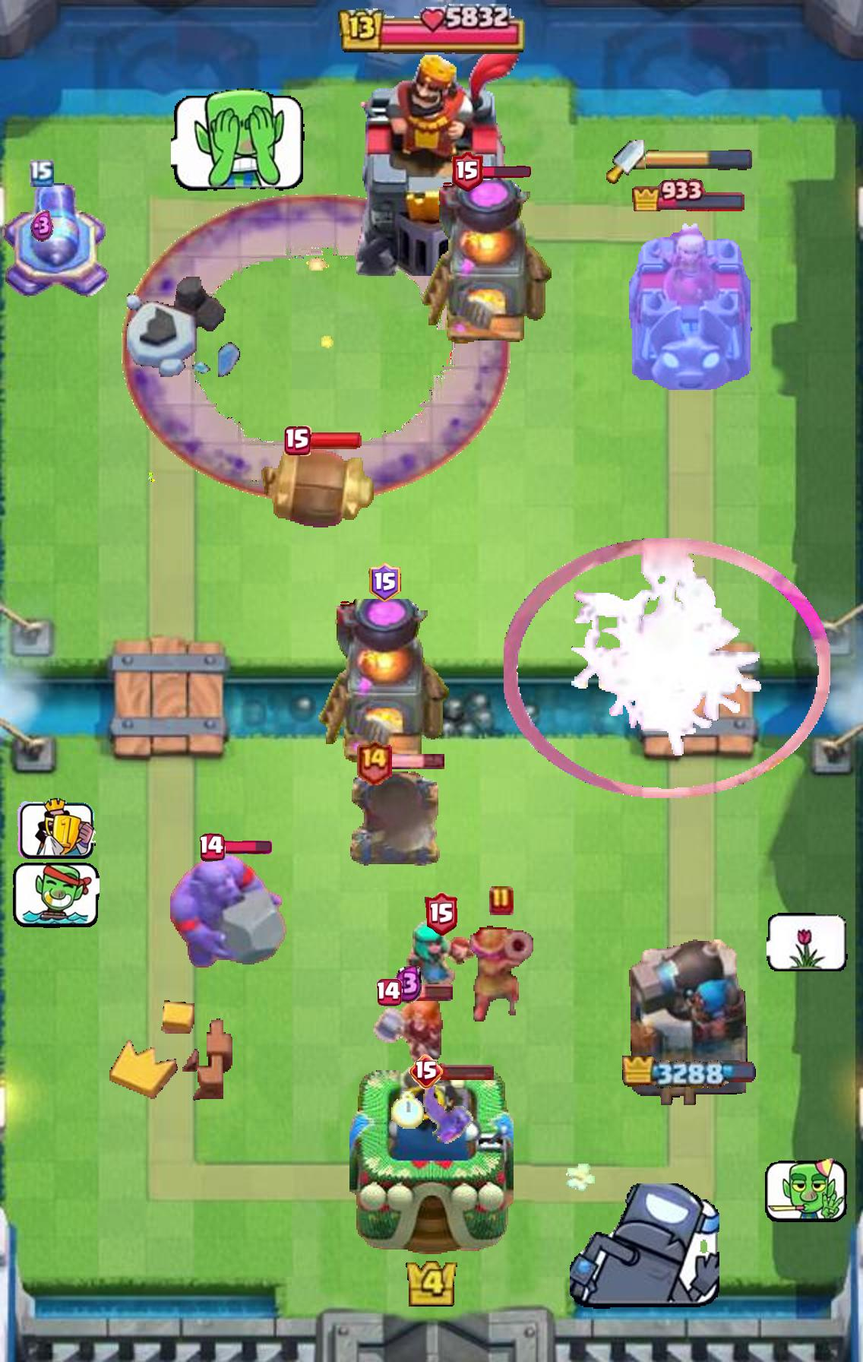bar: (399, 983, 454, 1002), (440, 1063, 495, 1081), (308, 432, 362, 450), (389, 753, 445, 770), (479, 165, 531, 178), (222, 841, 272, 854)
bar-level: (355, 738, 393, 785), (424, 892, 457, 936), (368, 562, 401, 602), (451, 152, 483, 192), (409, 1054, 444, 1089), (284, 426, 311, 456), (489, 885, 514, 916), (200, 833, 226, 862), (376, 979, 402, 1007)
